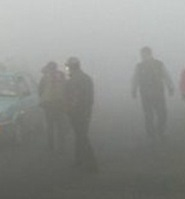person: (130, 45, 176, 142), (63, 57, 100, 171), (39, 61, 69, 152)
